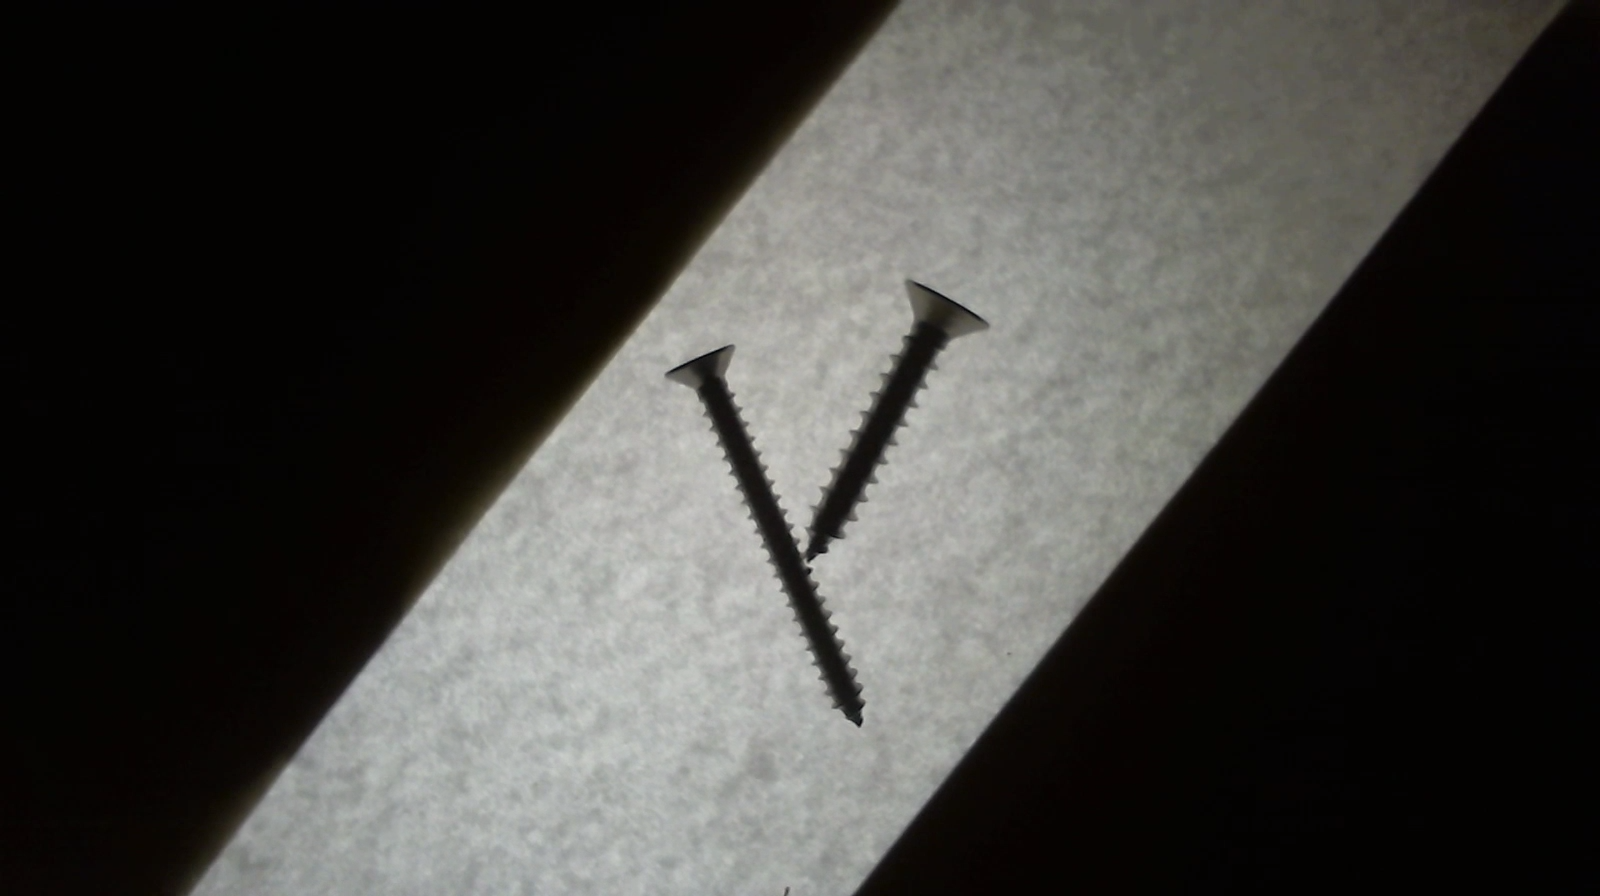S001: (799, 275, 996, 566)
S002: (664, 338, 873, 728)
